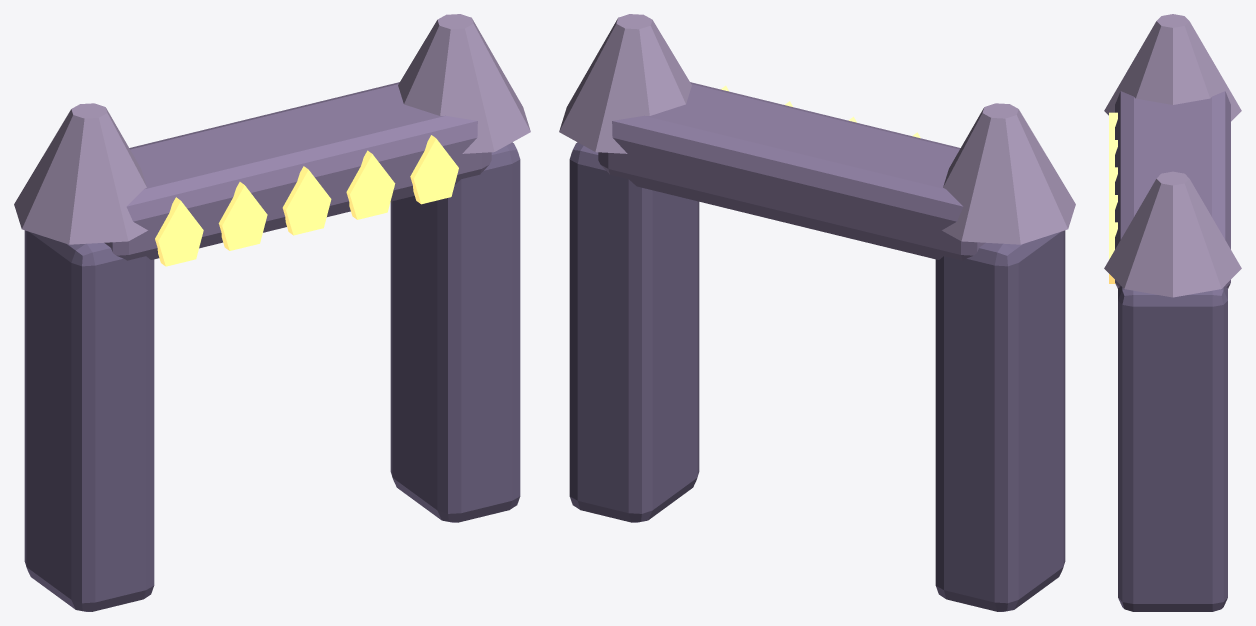
File: ember_great_gate.glb
The picture shows the model from 3 angles, left to right: view 1: azimuth 30°, elevation 25°; view 2: azimuth 150°, elevation 25°; view 3: azimuth 270°, elevation 25°; orthographic projection. The views are drawn at different scales.
Parts seen in each view (by area): view 1: GatePillar, GatePillar.001, Lintel, CrownCap, CrownCap.001, LanternSigil_2, LanternSigil_0, LanternSigil_3, LanternSigil_1, LanternSigil_4; view 2: GatePillar, GatePillar.001, Lintel, CrownCap, CrownCap.001; view 3: GatePillar.001, Lintel, CrownCap.001, CrownCap, LanternSigil_4.
Part boxes in pixels (x1,y1,x2,y2): GatePillar: [24, 230, 154, 611]; GatePillar.001: [390, 142, 520, 522]; Lintel: [104, 82, 491, 260]; CrownCap: [14, 103, 147, 244]; CrownCap.001: [398, 14, 530, 153]; LanternSigil_2: [282, 166, 331, 235]; LanternSigil_0: [155, 197, 203, 266]; LanternSigil_3: [346, 150, 395, 219]; LanternSigil_1: [218, 182, 267, 250]; LanternSigil_4: [410, 135, 458, 204]; GatePillar: [935, 230, 1065, 611]; GatePillar.001: [569, 142, 699, 522]; Lintel: [598, 82, 985, 260]; CrownCap: [942, 103, 1075, 244]; CrownCap.001: [559, 14, 691, 153]; GatePillar.001: [1118, 286, 1227, 611]; Lintel: [1115, 91, 1230, 288]; CrownCap.001: [1104, 171, 1241, 297]; CrownCap: [1104, 14, 1241, 121]; LanternSigil_4: [1109, 222, 1117, 283].
Size of the model in its own units: 9.27 by 8.45 by 2.5.
